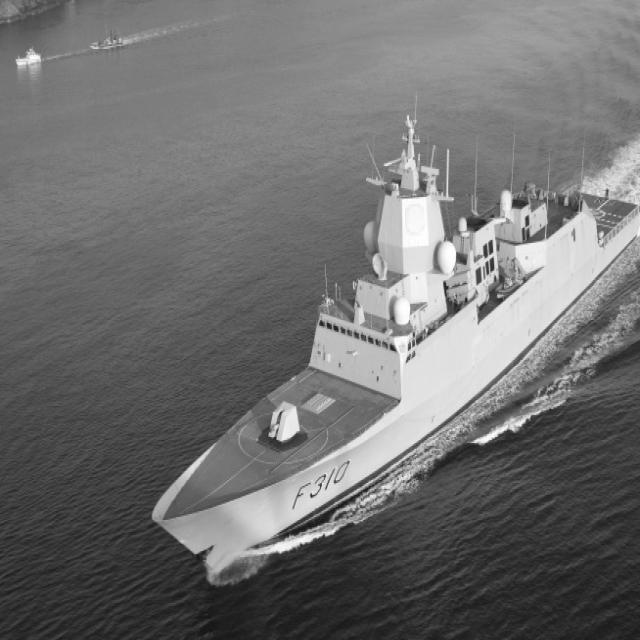Fragata: (149, 100, 640, 583)
